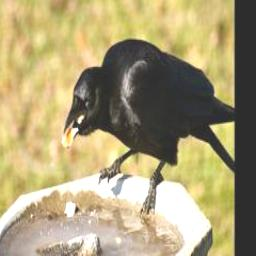Crow: (61, 36, 234, 218)
